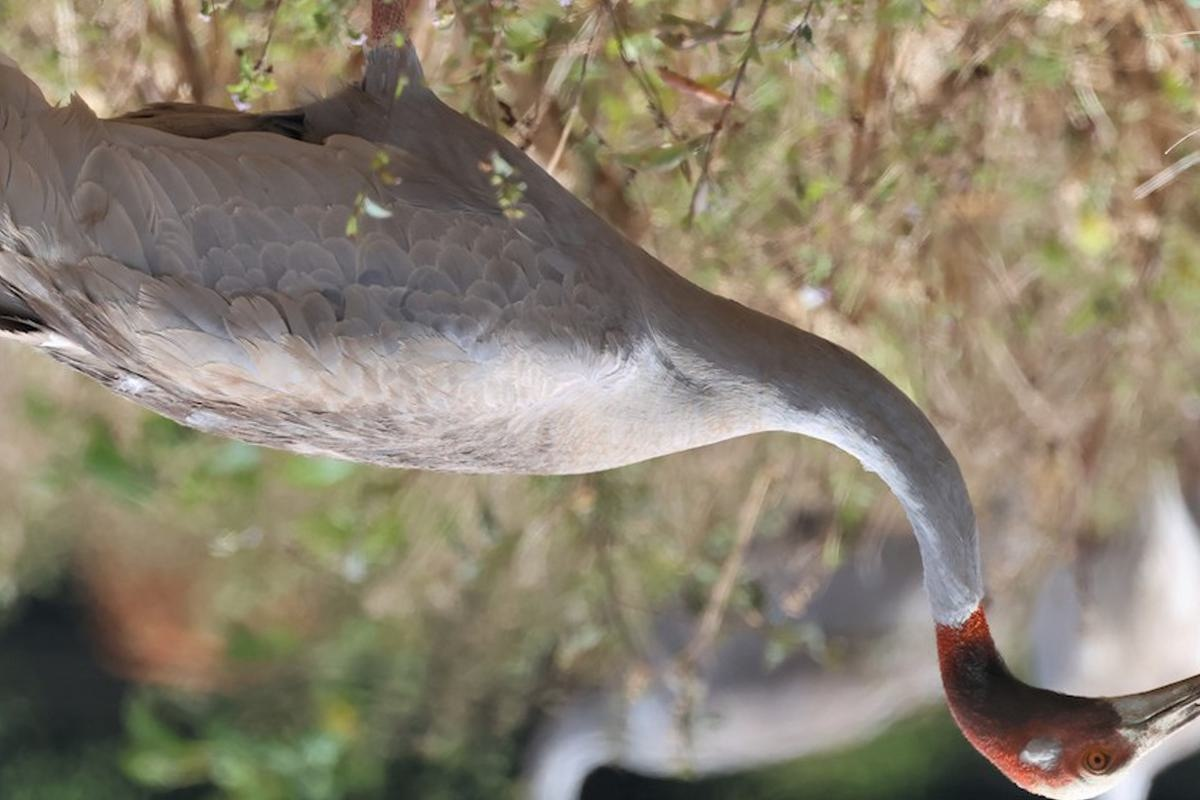crane: (3, 13, 1198, 798)
